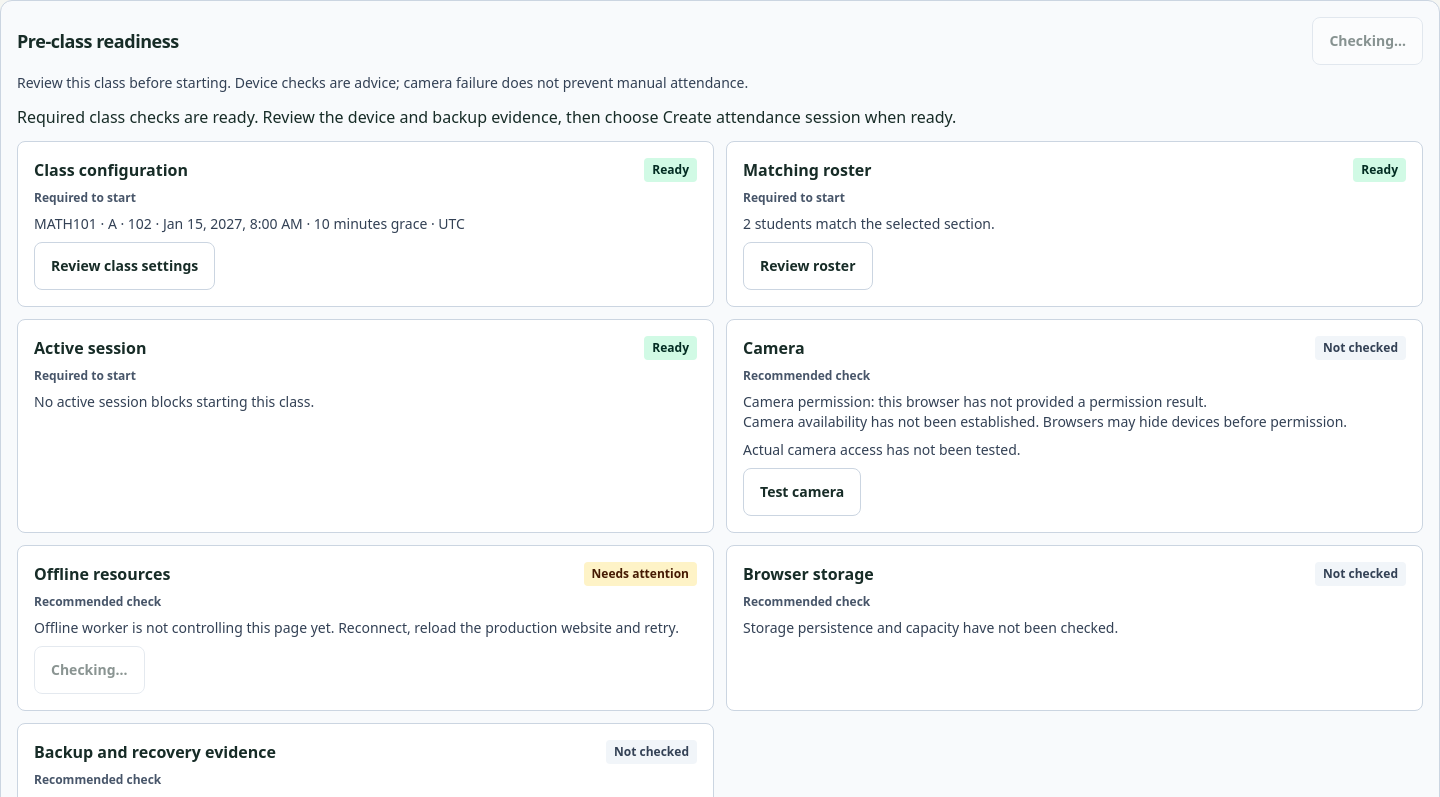
Test case: pre-class readiness workflow › releases tracks after a failed stream check
This screenshot has width=1440, height=797.
Click the button "Test camera". click: x=802, y=492
box: x1=743 y1=468 x2=861 y2=516
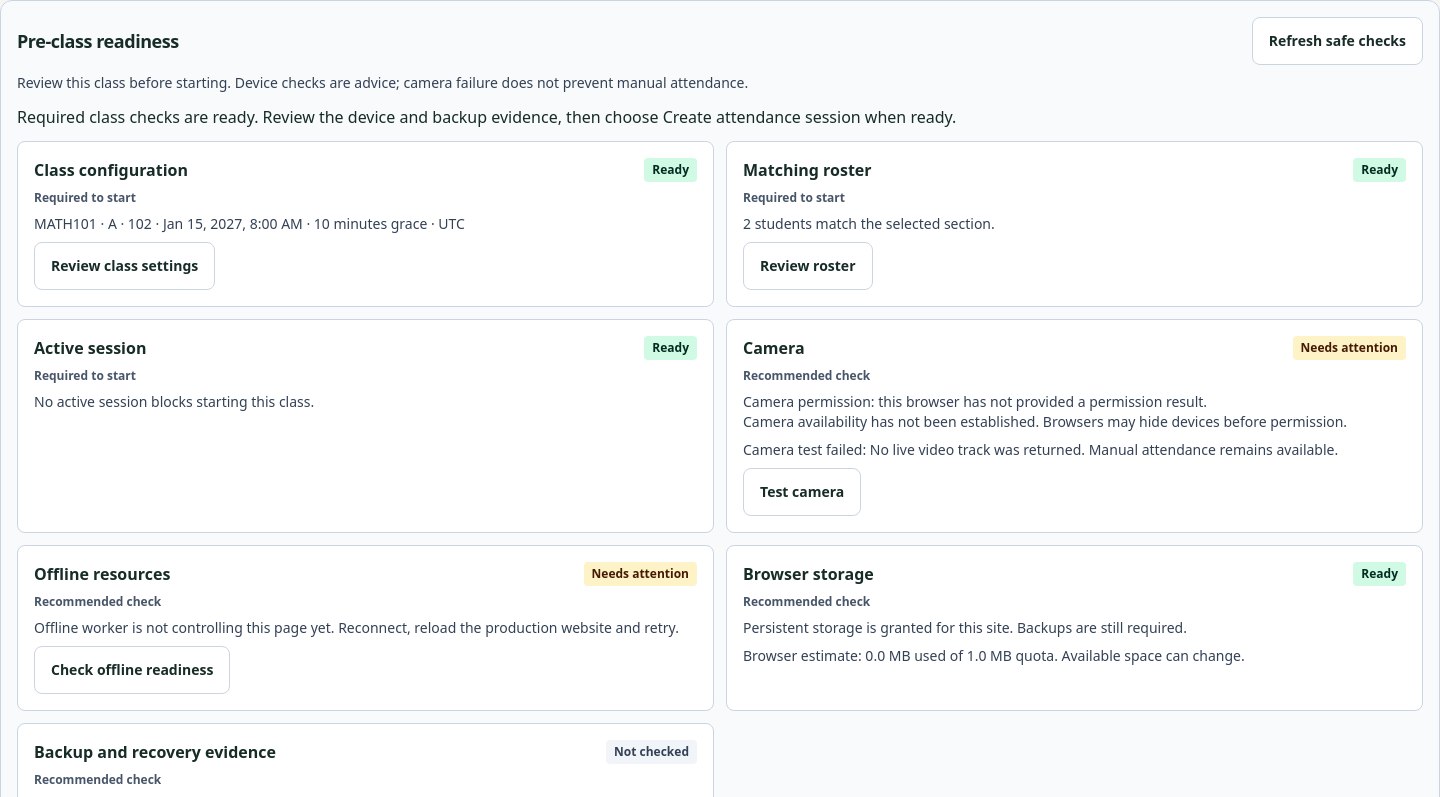
Now the text "Camera test failed: No live video track" is shown, box x1=743 y1=440 x2=1338 y2=459
